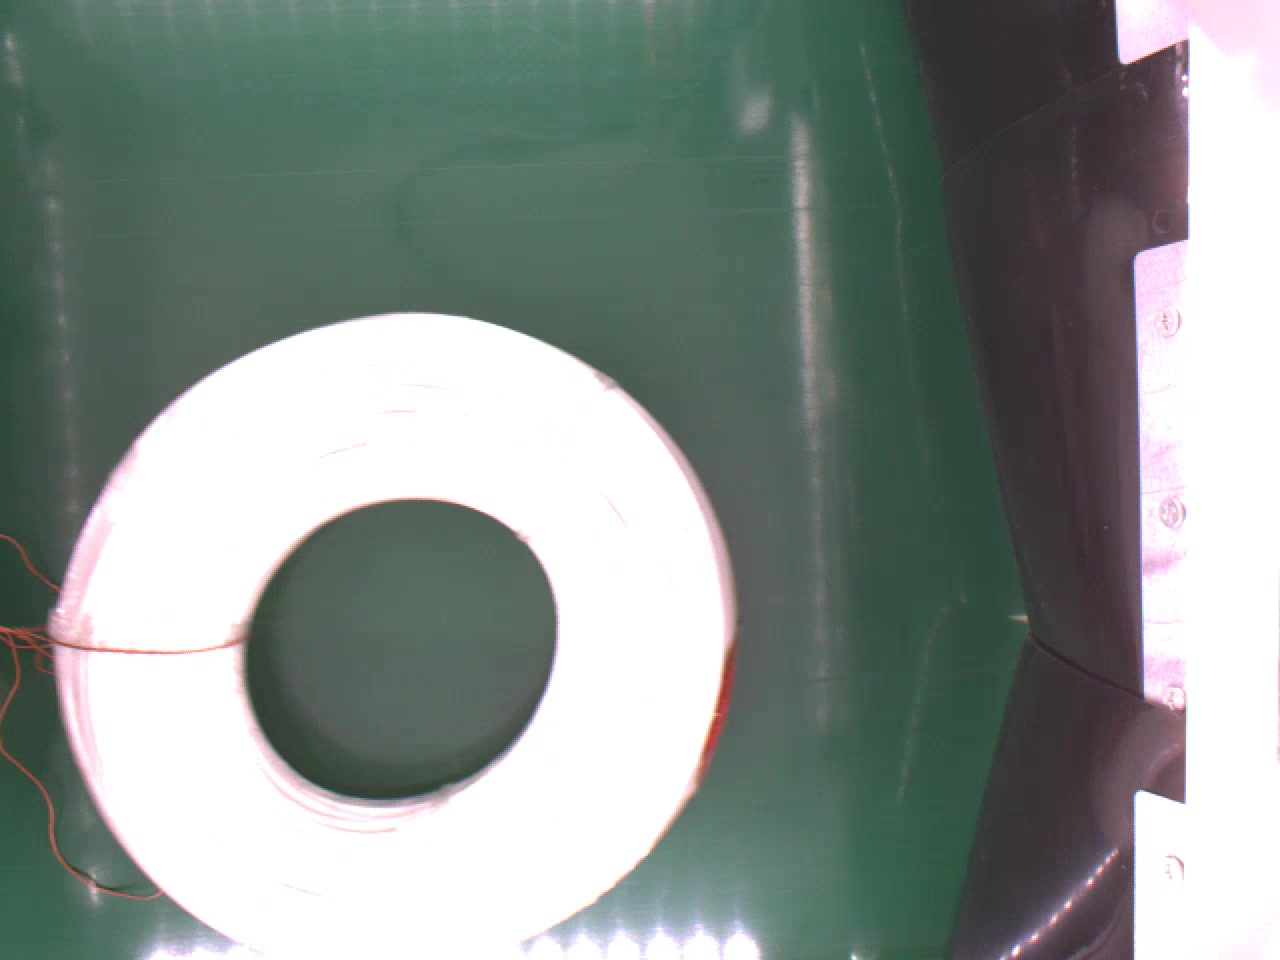white: (53, 305, 734, 960)
